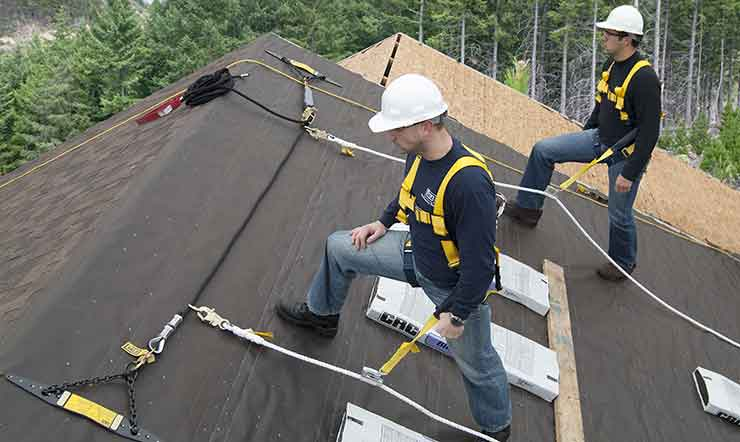epi: (274, 70, 512, 442), (498, 2, 662, 285)
